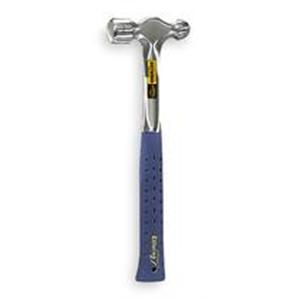hammer: (104, 13, 191, 282)
